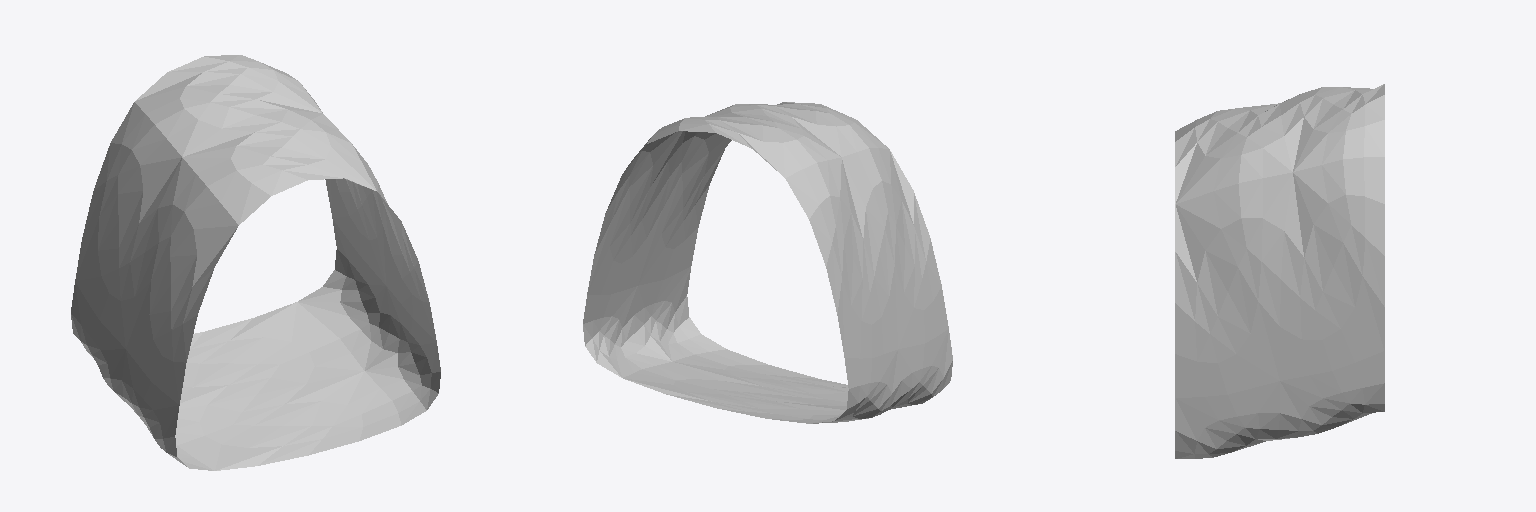
The model's file is cave_0_1.obj.
3 views of the same model, side by side, from view 1: azimuth 30°, elevation 25°; view 2: azimuth 150°, elevation 25°; view 3: azimuth 270°, elevation 25° (orthographic).
Parts seen in each view (by area): view 1: cave_0_1_Cube.001; view 2: cave_0_1_Cube.001; view 3: cave_0_1_Cube.001.
Part boxes in pixels (x1,y1,x2,y2): cave_0_1_Cube.001: (71,55,440,470); cave_0_1_Cube.001: (583,102,952,423); cave_0_1_Cube.001: (1175,84,1384,458).
Size of the model in its own units: 5.95 by 6.81 by 4.